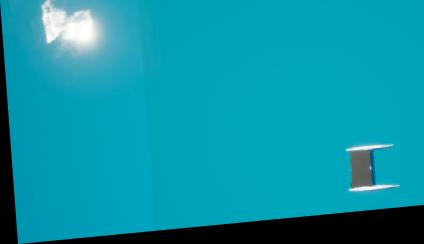boat: (340, 149, 397, 201)
drone: (347, 159, 369, 193)
land_base: (34, 0, 115, 77)
